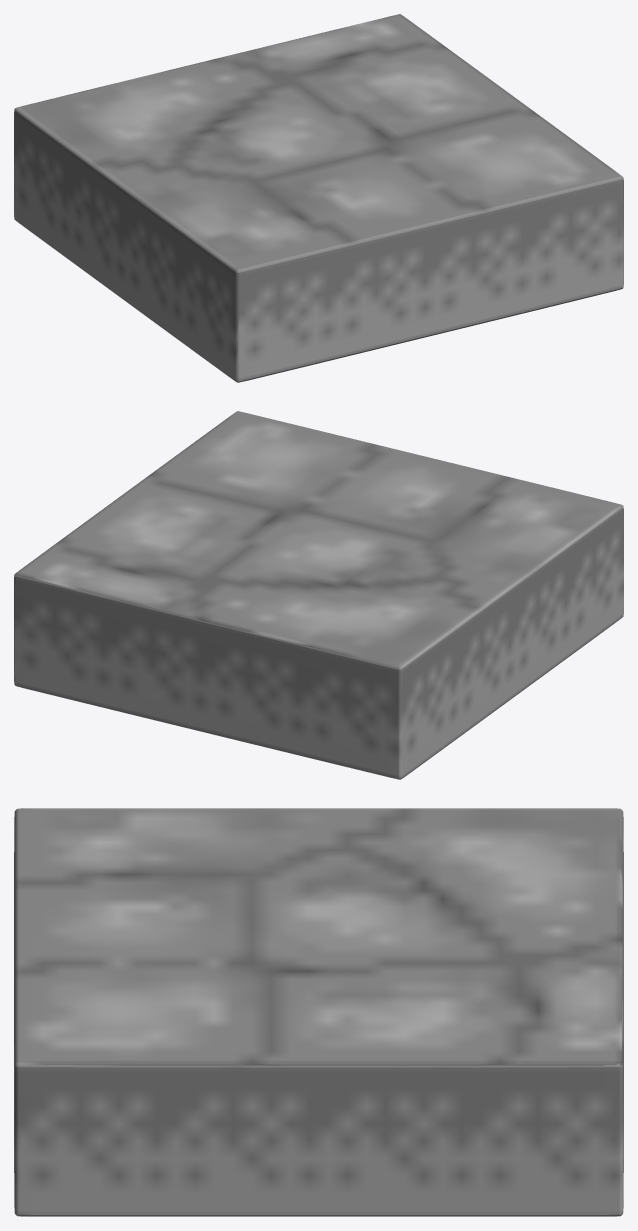
The model's file is PixelTileStone.fbx.
The picture shows the model from 3 angles, top to bottom: view 1: azimuth 30°, elevation 25°; view 2: azimuth 150°, elevation 25°; view 3: azimuth 270°, elevation 25°; orthographic projection. The views are drawn at different scales.
Visible parts, largest first — view 1: PixelBasic; view 2: PixelBasic; view 3: PixelBasic.
Boxes of the visible parts, left/top/right/bottom form: PixelBasic: left=14, top=14, right=623, bottom=382; PixelBasic: left=14, top=411, right=623, bottom=779; PixelBasic: left=14, top=808, right=623, bottom=1216.
Size of the model in its own units: 99.99 by 28.04 by 99.99.
Materials: 1 (1 with a texture image).
